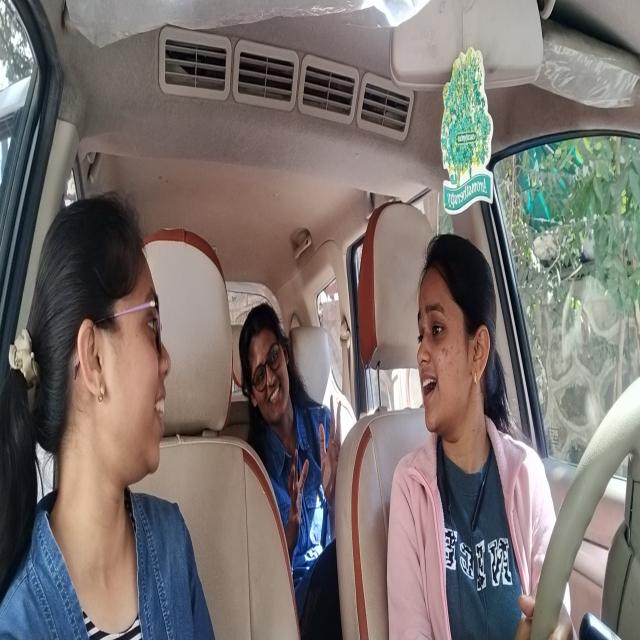LeftRight: (417, 232, 504, 455)
person: (33, 188, 168, 524), (238, 300, 295, 438)
talking: (420, 368, 439, 412), (154, 379, 168, 436)
